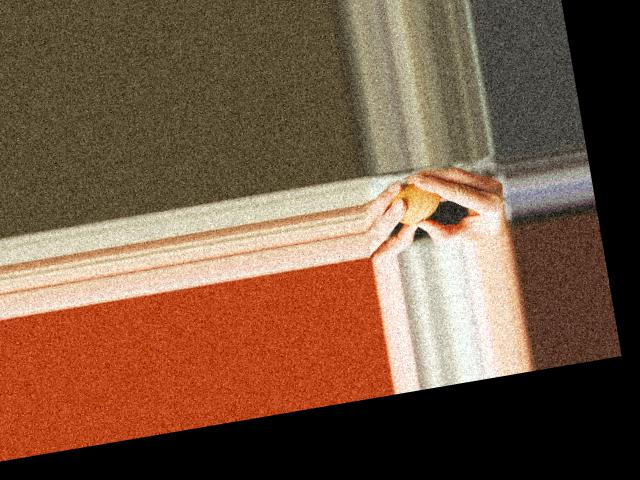egg: (387, 179, 442, 227)
